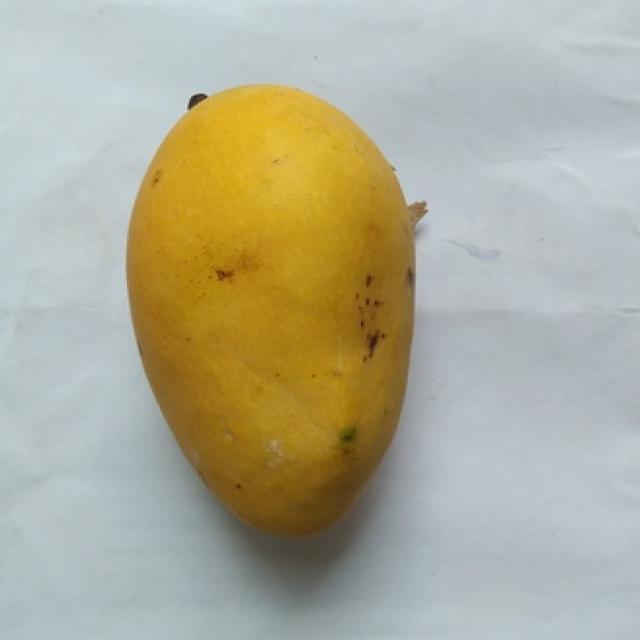Mango: (127, 85, 425, 533)
